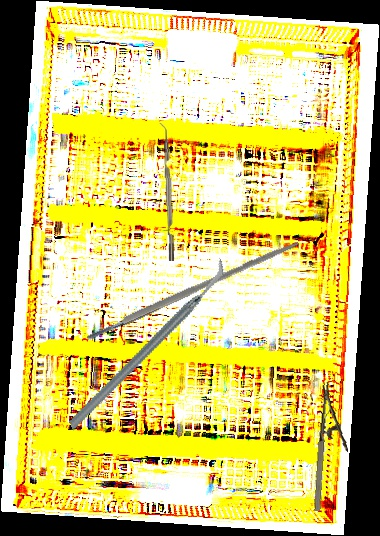Chopper: (33, 257, 260, 431), (157, 122, 175, 262)
Needle Holder: (310, 381, 355, 514)
Scalpel Handle: (84, 238, 301, 342)
